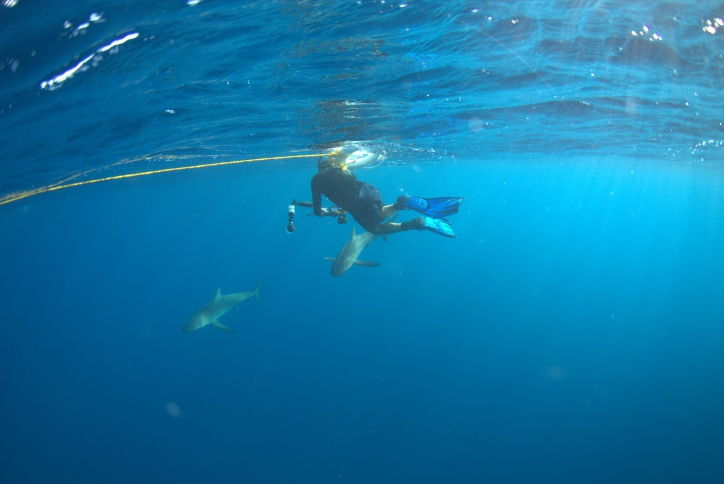Sedoso: (172, 260, 275, 348)
